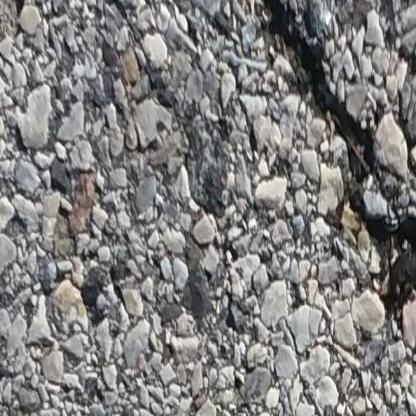Cracks: (244, 0, 416, 309)
